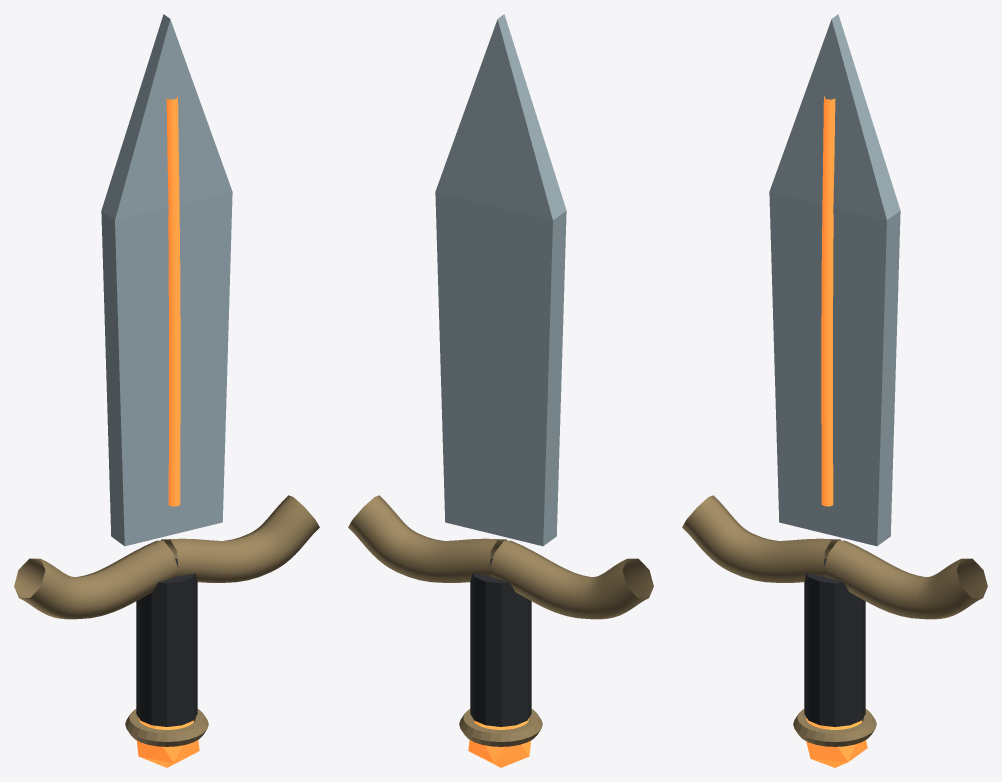
Rendered from Fire_Sword.glb.
3 views of the same model, side by side, from view 1: azimuth 30°, elevation 25°; view 2: azimuth 150°, elevation 25°; view 3: azimuth 330°, elevation 25° (orthographic).
Parts seen in each view (by area): view 1: Forged ember sword, Leather hilt, Swept forged guard, Swept forged guard.001, Warm recessed fuller, Pommel iron rim, Ember pommel; view 2: Forged ember sword, Leather hilt, Swept forged guard, Swept forged guard.001, Pommel iron rim, Ember pommel; view 3: Forged ember sword, Leather hilt, Swept forged guard.001, Swept forged guard, Warm recessed fuller, Pommel iron rim, Ember pommel.
Boxes of the visible parts, x1,y1,x2,y2 form: Forged ember sword: (101, 14, 232, 546); Leather hilt: (136, 558, 197, 726); Swept forged guard: (14, 540, 178, 619); Swept forged guard.001: (161, 495, 319, 582); Warm recessed fuller: (166, 96, 180, 506); Pommel iron rim: (125, 709, 208, 746); Ember pommel: (136, 717, 199, 767); Forged ember sword: (435, 14, 566, 546); Leather hilt: (470, 558, 531, 726); Swept forged guard: (489, 540, 653, 619); Swept forged guard.001: (348, 495, 506, 582); Pommel iron rim: (459, 709, 542, 746); Ember pommel: (468, 717, 531, 767); Forged ember sword: (769, 14, 900, 546); Leather hilt: (804, 558, 865, 726); Swept forged guard.001: (823, 540, 987, 619); Swept forged guard: (682, 495, 840, 582); Warm recessed fuller: (821, 96, 835, 506); Pommel iron rim: (793, 709, 876, 746); Ember pommel: (806, 718, 867, 767).
Size of the model in its own units: 0.6044 by 1.47 by 0.148.
